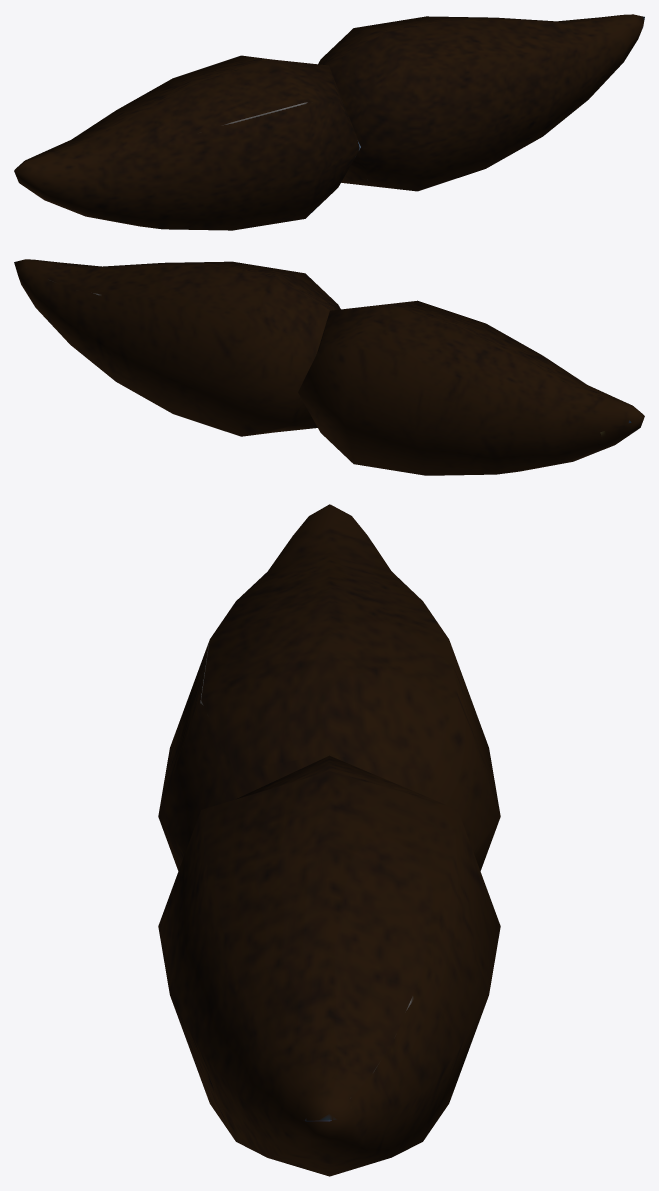
File: moustache 2.fbx
3 views of the same model, one above another, from view 1: azimuth 30°, elevation 25°; view 2: azimuth 150°, elevation 25°; view 3: azimuth 270°, elevation 25° (orthographic). The views are drawn at different scales.
Visible parts, largest first — view 1: polySurface7; view 2: polySurface7; view 3: polySurface7.
Boxes of the visible parts, x1,y1,x2,y2 form: polySurface7: [14, 14, 644, 230]; polySurface7: [14, 259, 644, 475]; polySurface7: [158, 504, 500, 1176].
Bounding box in the file's own units: 0.435 × 0.1022 × 0.1022.
1 material, 1 textured.
